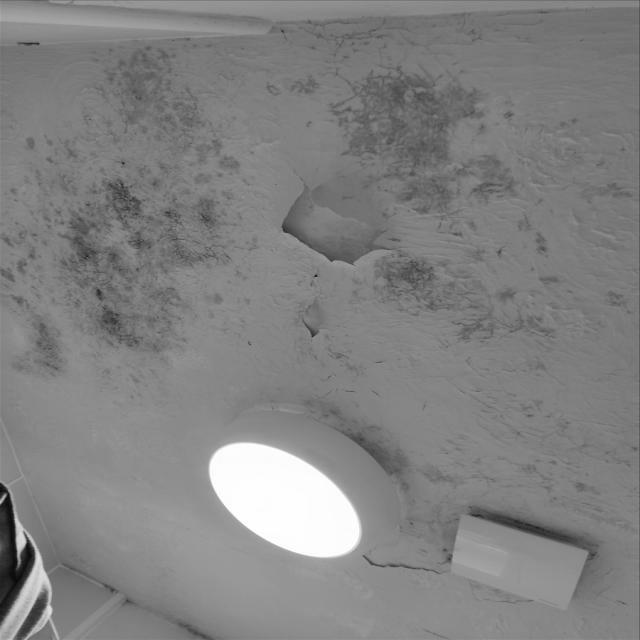peeling paint: (272, 165, 420, 284)
stain marks: (0, 29, 260, 408), (265, 0, 640, 235), (280, 244, 630, 380), (415, 382, 640, 572), (292, 383, 432, 488)
